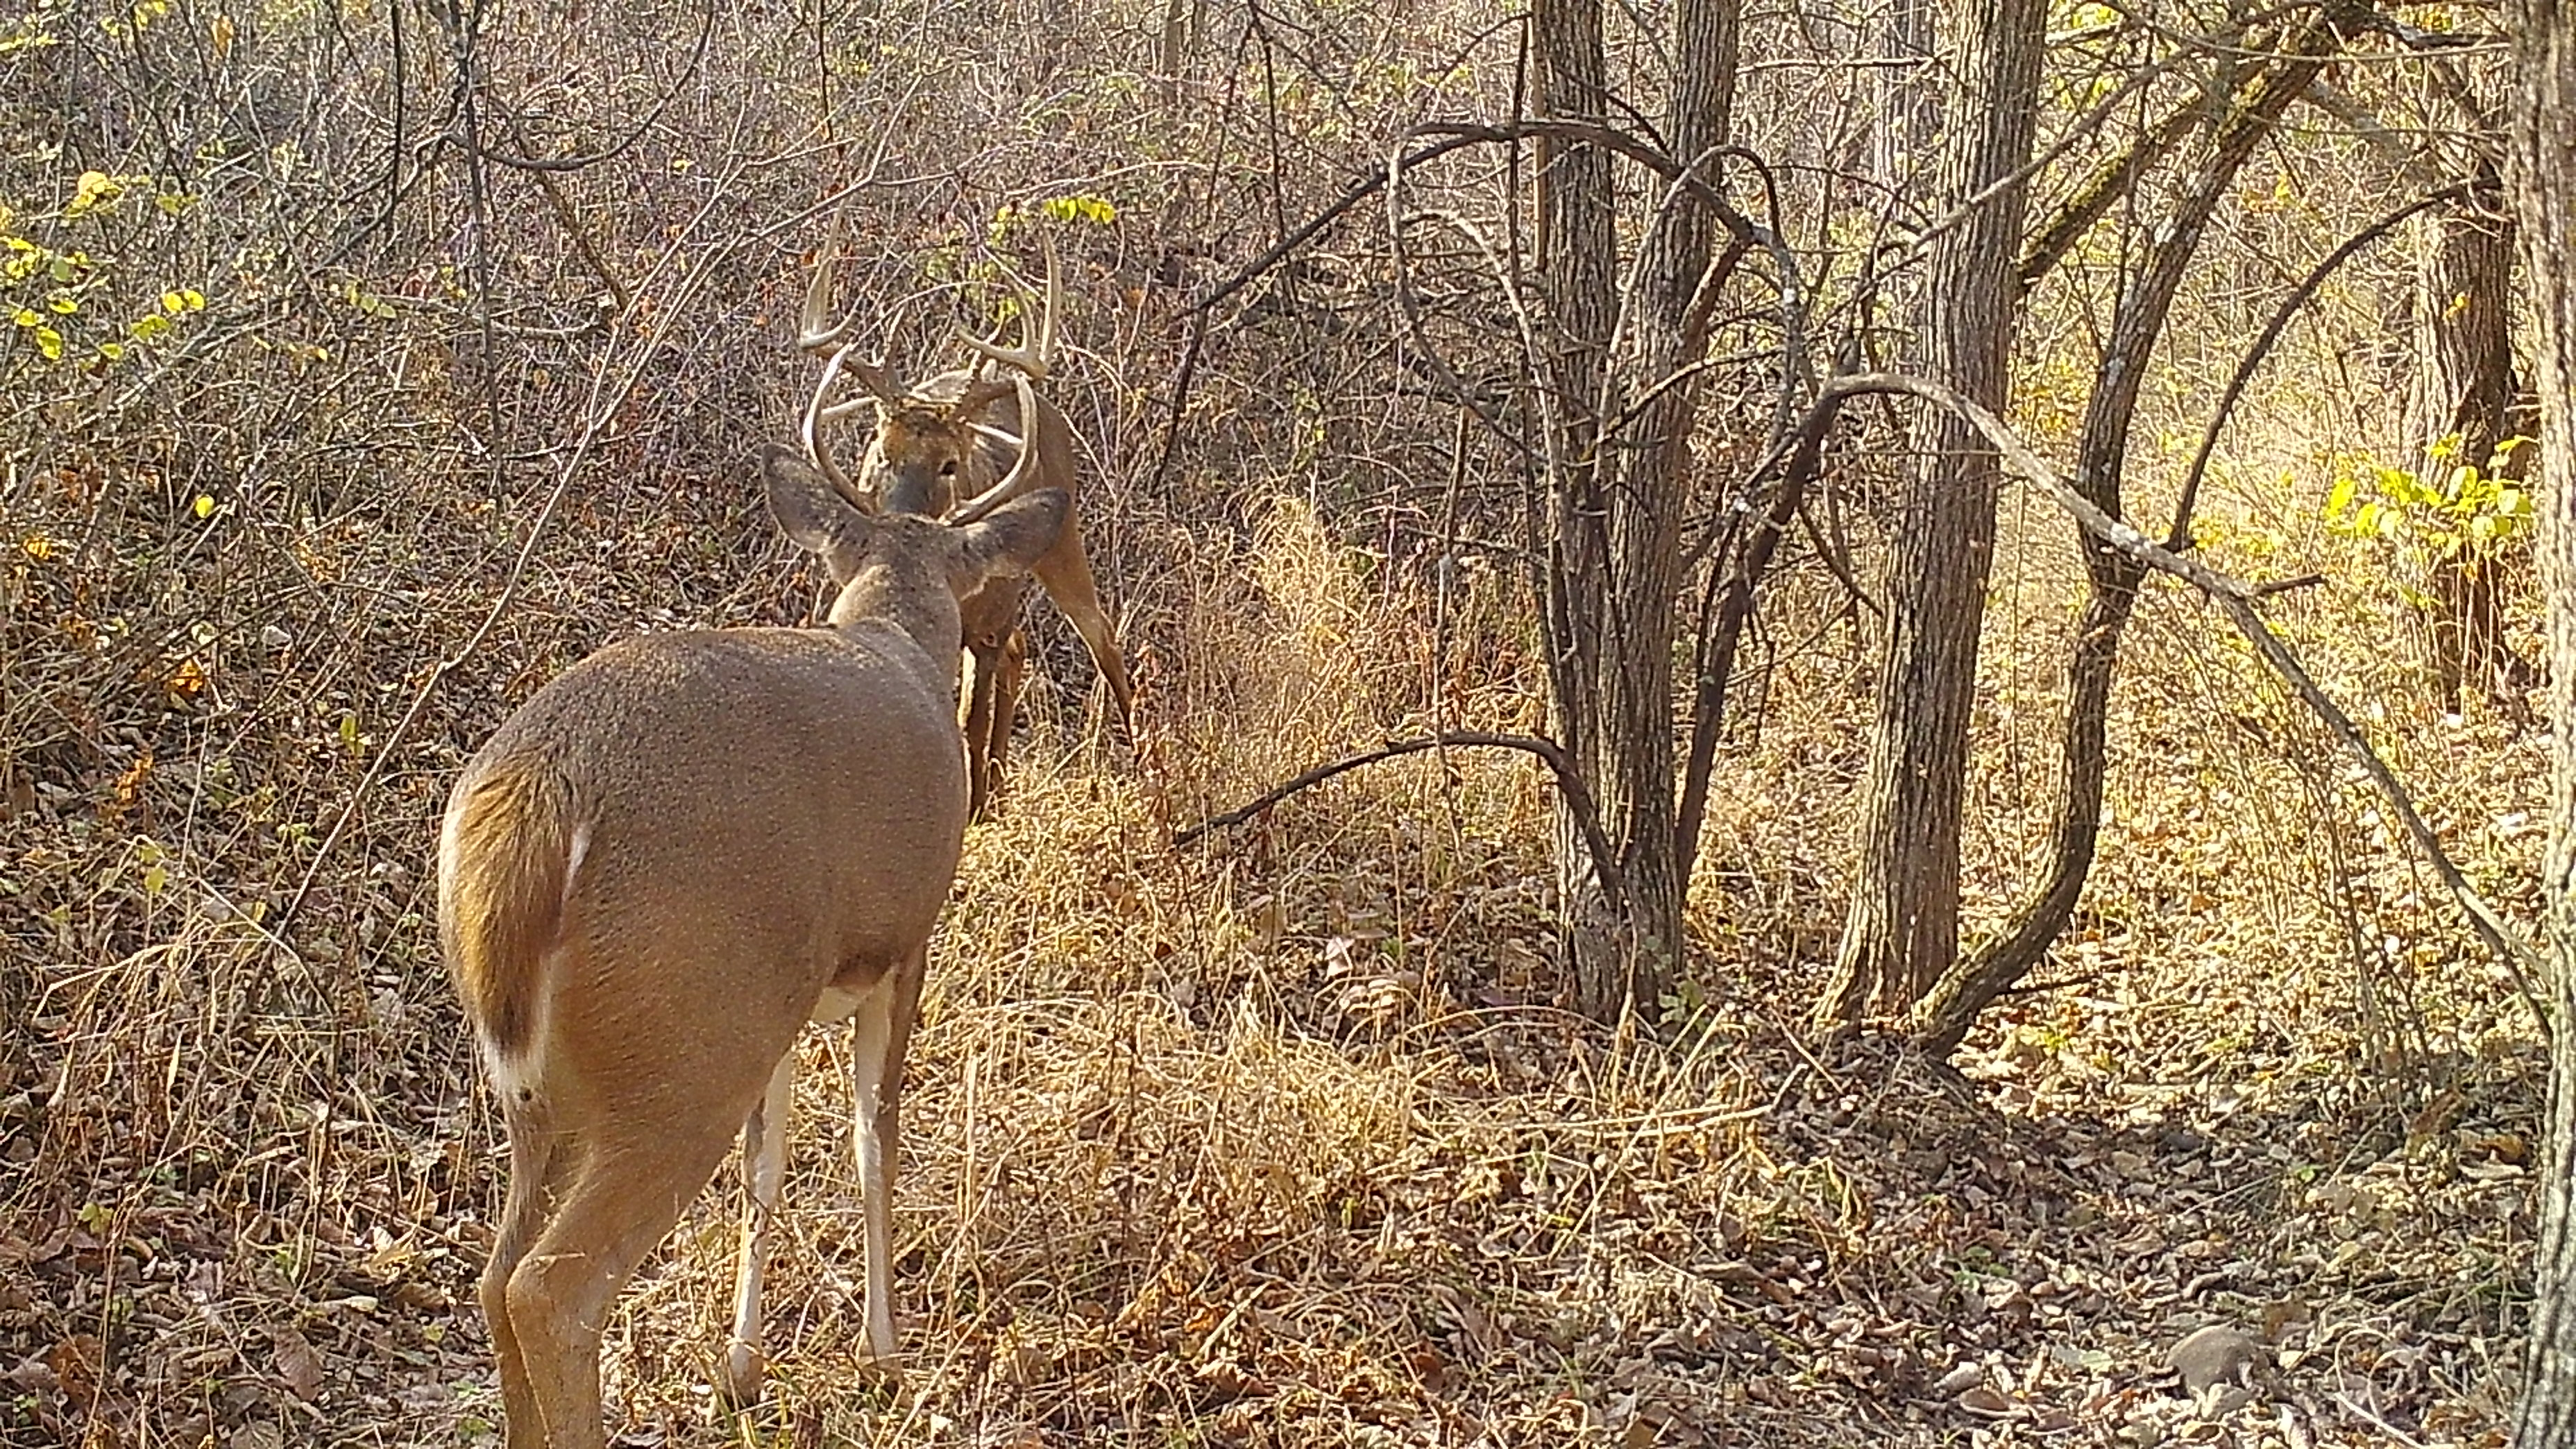DeerBuck: (432, 341, 1098, 1449), (797, 196, 1142, 817)
DeerBuckHead: (759, 341, 1098, 598), (797, 195, 1064, 519)
